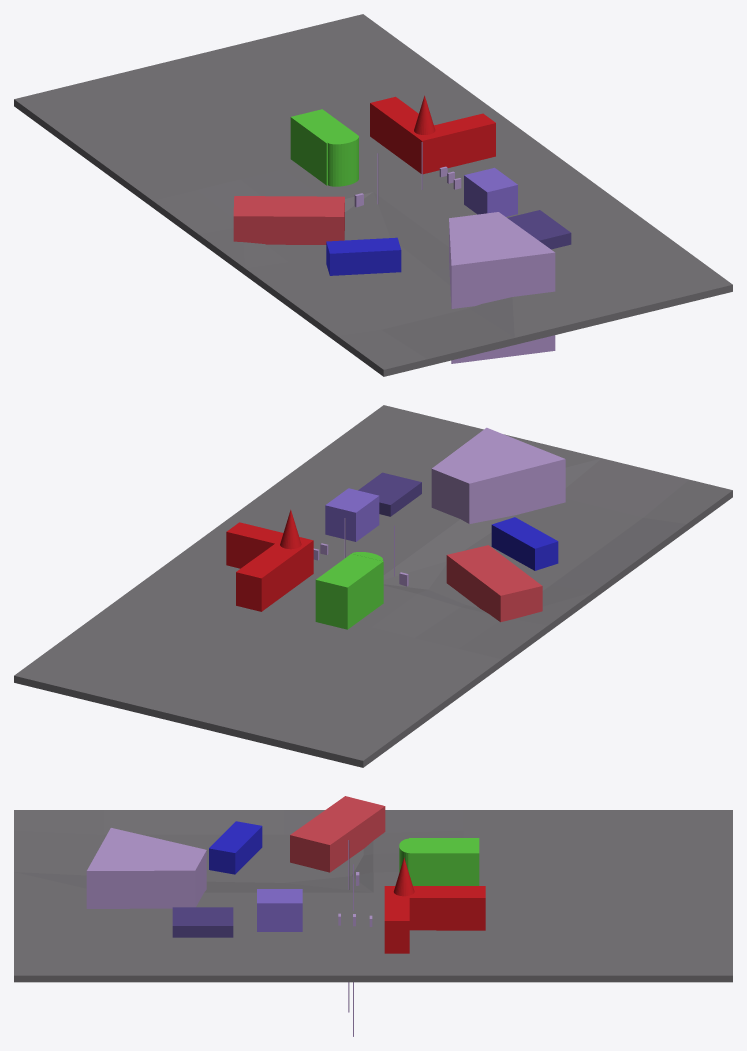
The model's file is square_2.glb.
The picture shows the model from 3 angles, top to bottom: view 1: azimuth 30°, elevation 25°; view 2: azimuth 150°, elevation 25°; view 3: azimuth 270°, elevation 25°; orthographic projection. The views are drawn at different scales.
Parts seen in each view (by area): view 1: ShapeIndexedFaceSet, ShapeIndexedFaceSet.007, ShapeIndexedFaceSet.002, ShapeIndexedFaceSet.005, ShapeIndexedFaceSet.001, ShapeIndexedFaceSet.006, ShapeIndexedFaceSet.003, ShapeIndexedFaceSet.004; view 2: ShapeIndexedFaceSet, ShapeIndexedFaceSet.007, ShapeIndexedFaceSet.002, ShapeIndexedFaceSet.005, ShapeIndexedFaceSet.001, ShapeIndexedFaceSet.006, ShapeIndexedFaceSet.003, ShapeIndexedFaceSet.004; view 3: ShapeIndexedFaceSet, ShapeIndexedFaceSet.007, ShapeIndexedFaceSet.002, ShapeIndexedFaceSet.005, ShapeIndexedFaceSet.001, ShapeIndexedFaceSet.006, ShapeIndexedFaceSet.003, ShapeIndexedFaceSet.004.
Boxes of the visible parts, box(x1,y1,x2,y2) form: ShapeIndexedFaceSet: box(14, 14, 732, 376); ShapeIndexedFaceSet.007: box(354, 142, 555, 363); ShapeIndexedFaceSet.002: box(370, 95, 495, 174); ShapeIndexedFaceSet.005: box(233, 196, 344, 244); ShapeIndexedFaceSet.001: box(290, 109, 358, 186); ShapeIndexedFaceSet.006: box(326, 237, 401, 275); ShapeIndexedFaceSet.003: box(464, 167, 517, 216); ShapeIndexedFaceSet.004: box(507, 210, 571, 249); ShapeIndexedFaceSet: box(14, 405, 732, 767); ShapeIndexedFaceSet.007: box(313, 427, 565, 586); ShapeIndexedFaceSet.002: box(226, 509, 313, 611); ShapeIndexedFaceSet.005: box(446, 545, 542, 622); ShapeIndexedFaceSet.001: box(315, 552, 383, 629); ShapeIndexedFaceSet.006: box(491, 517, 558, 570); ShapeIndexedFaceSet.003: box(325, 488, 379, 541); ShapeIndexedFaceSet.004: box(358, 472, 421, 516); ShapeIndexedFaceSet: box(14, 810, 732, 982); ShapeIndexedFaceSet.007: box(86, 828, 372, 1036); ShapeIndexedFaceSet.002: box(384, 857, 485, 953); ShapeIndexedFaceSet.005: box(290, 796, 385, 872); ShapeIndexedFaceSet.001: box(399, 838, 479, 885); ShapeIndexedFaceSet.006: box(209, 821, 262, 874); ShapeIndexedFaceSet.003: box(257, 889, 302, 931); ShapeIndexedFaceSet.004: box(172, 907, 233, 937).
Bounding box in the file's own units: 15.53 × 8.43 × 28.48.
